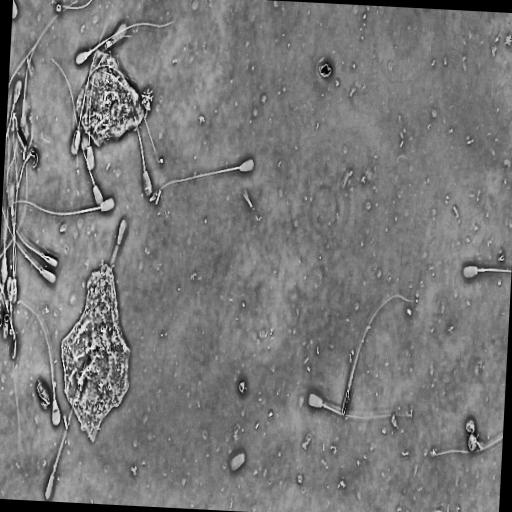dirt-particles: (59, 261, 132, 444), (68, 47, 149, 179), (464, 417, 479, 454), (316, 54, 335, 82), (34, 379, 50, 409), (237, 376, 247, 397)
loose-head: (227, 448, 247, 475)
loose-tail: (431, 433, 503, 459), (47, 0, 95, 12)
normal: (340, 291, 419, 418), (46, 54, 106, 217), (44, 334, 102, 501), (90, 62, 154, 199), (13, 286, 61, 427), (74, 18, 175, 66), (152, 156, 256, 198), (307, 391, 416, 423), (11, 196, 117, 220), (10, 144, 18, 309), (461, 263, 511, 280)
